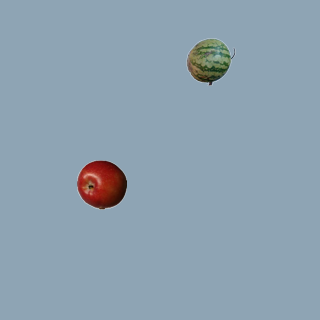Apple Braeburn: (76, 159, 126, 209)
Watermelon: (185, 36, 235, 86)
